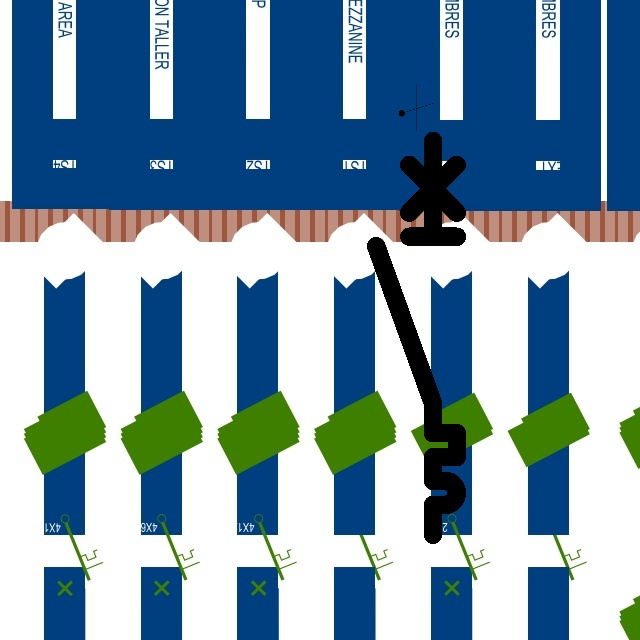interruptor_termomagnetico: (366, 130, 467, 544)
